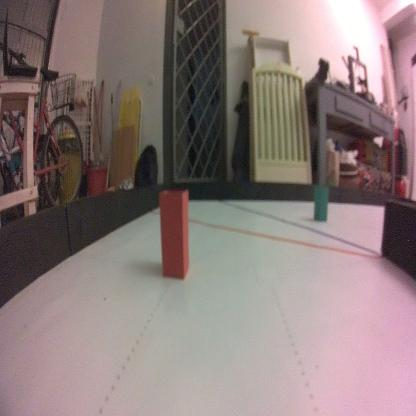green: (313, 182, 329, 222)
red: (159, 188, 190, 281)
